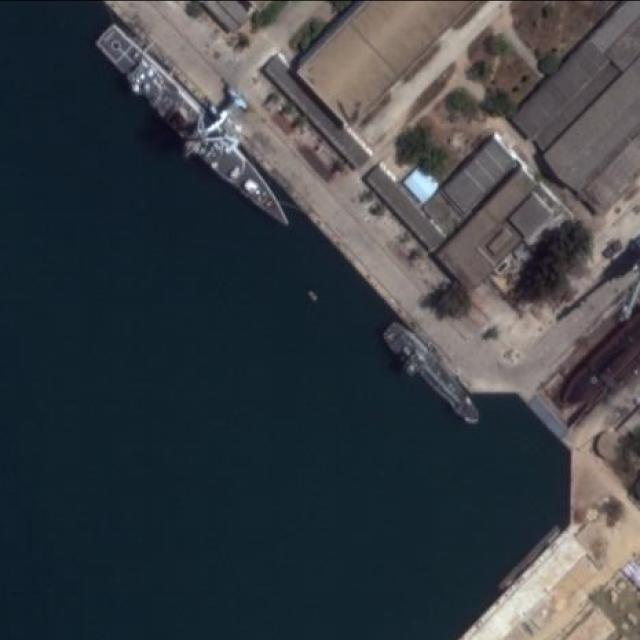Auxiliary Ships: (92, 17, 299, 239)
Other Warship: (374, 319, 492, 433)
